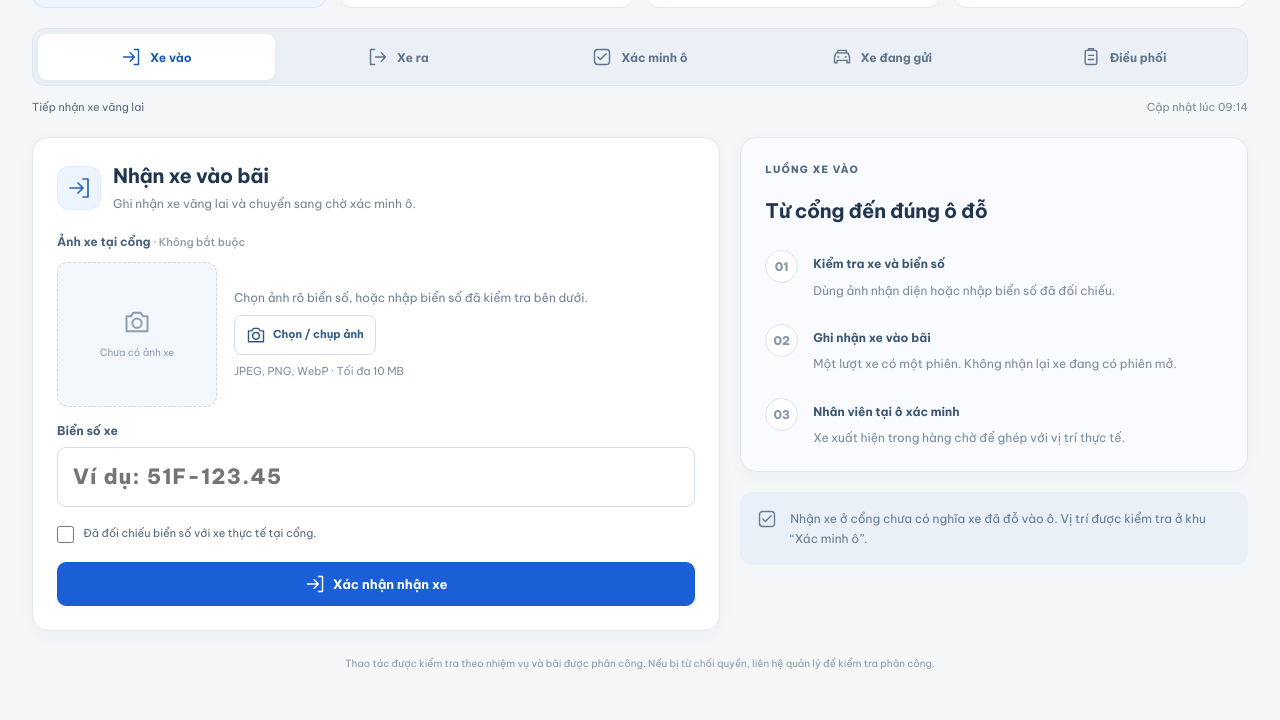
Staff workspace › shows backend duty rejection and keeps the entry draft for correction
(page scrolled)
Expected: the button "Xác nhận nhận xe" is enabled, [57,562,695,606]
In the field labelled "Biển số xe": [376, 477] box [57,447,695,507], type "51A99999"
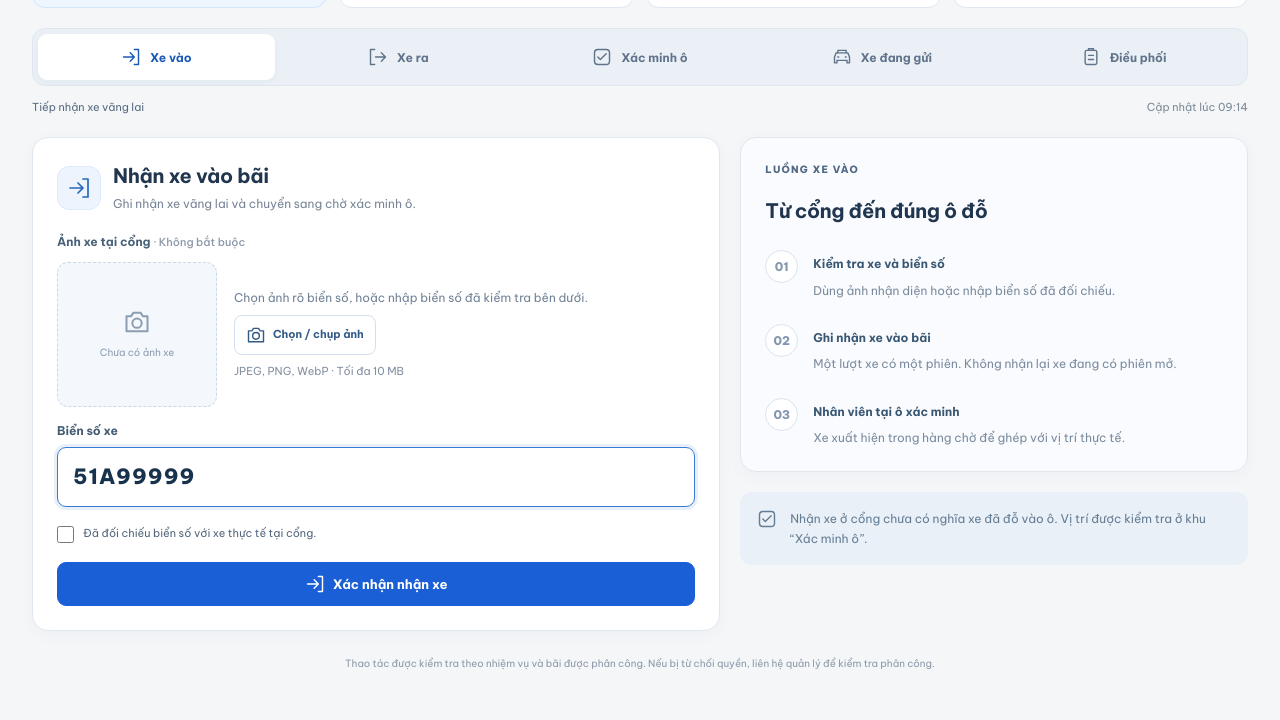
Click the checkbox: [66, 534] box [57,526,74,543]
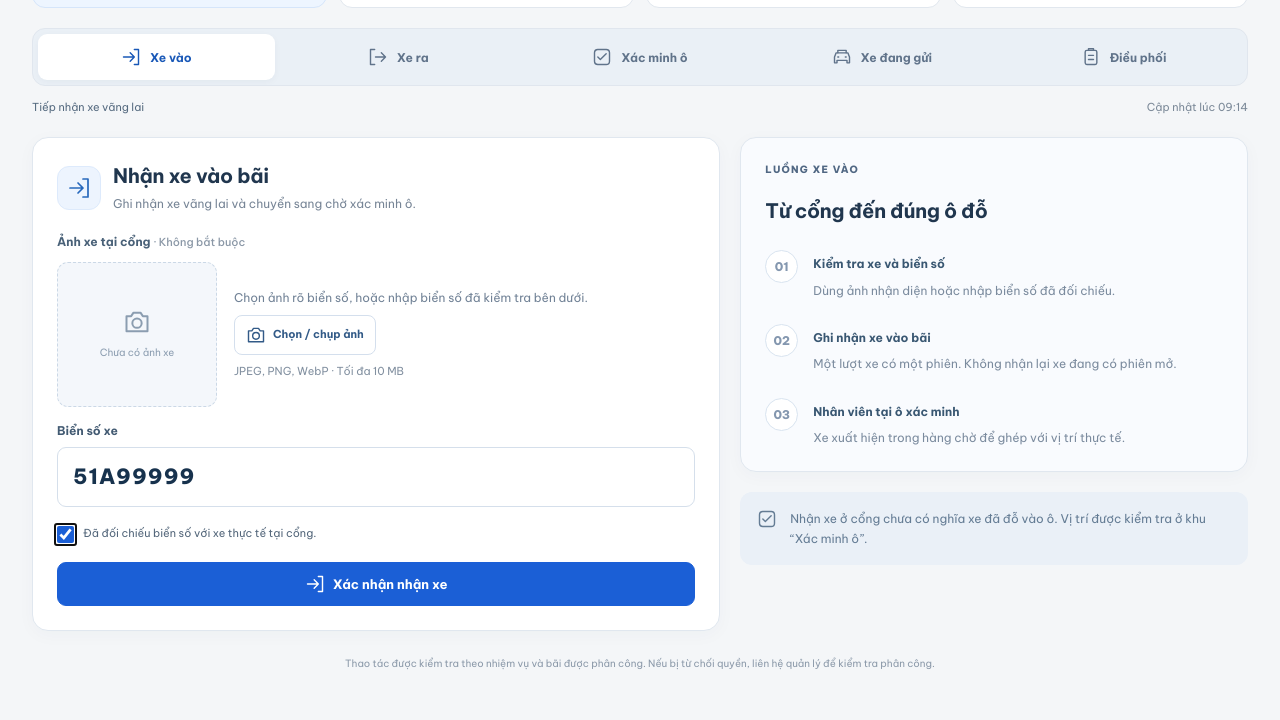
Click the button "Xác nhận nhận xe": [376, 584] box [57,562,695,606]
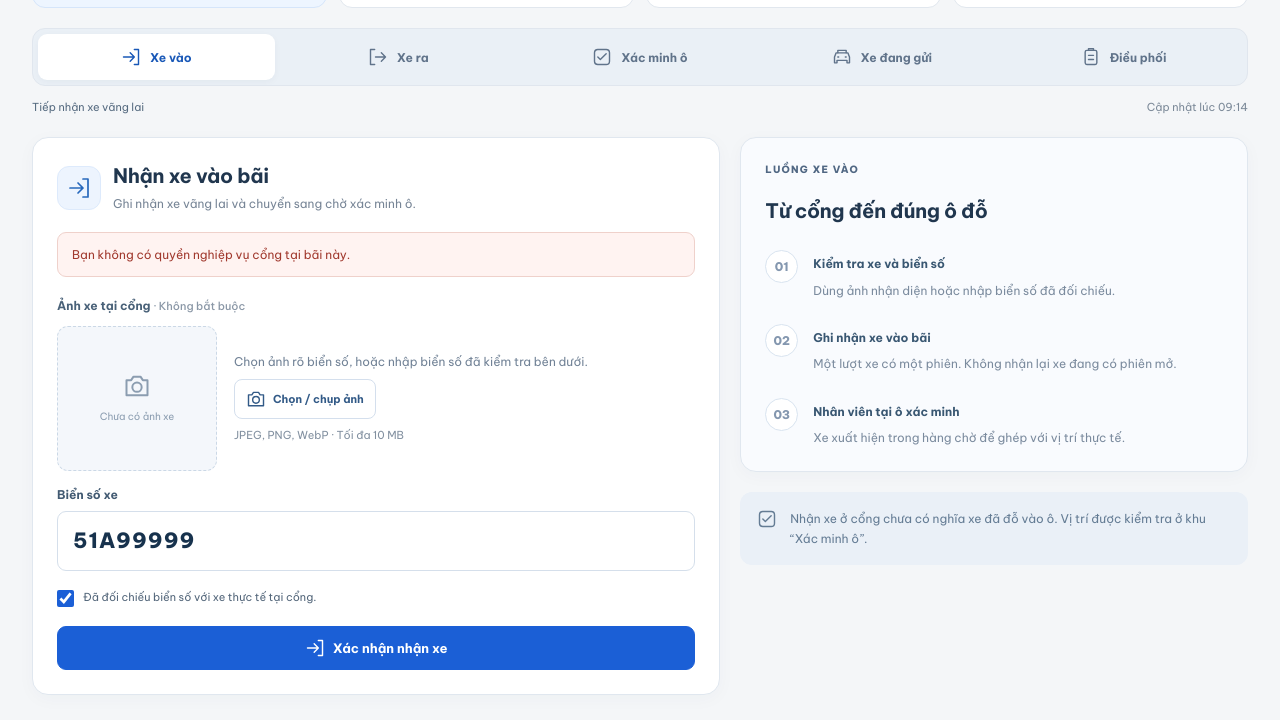
Expected: the text "Bạn không có quyền nghiệp vụ cổng tại bãi này." is shown, [57,232,695,278]
